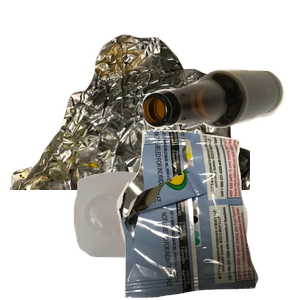glass: (140, 67, 300, 188)
metal: (10, 32, 250, 212)
plastic: (71, 169, 275, 300)
trash: (114, 130, 300, 300)
